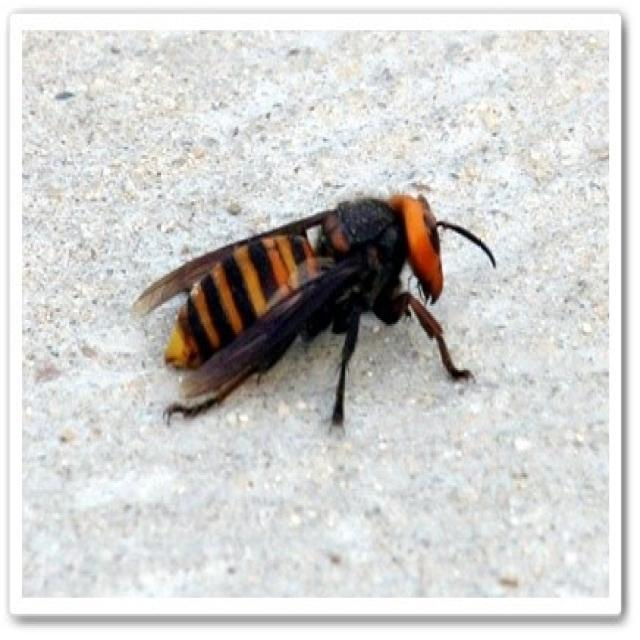Wasp: (123, 183, 496, 429)
